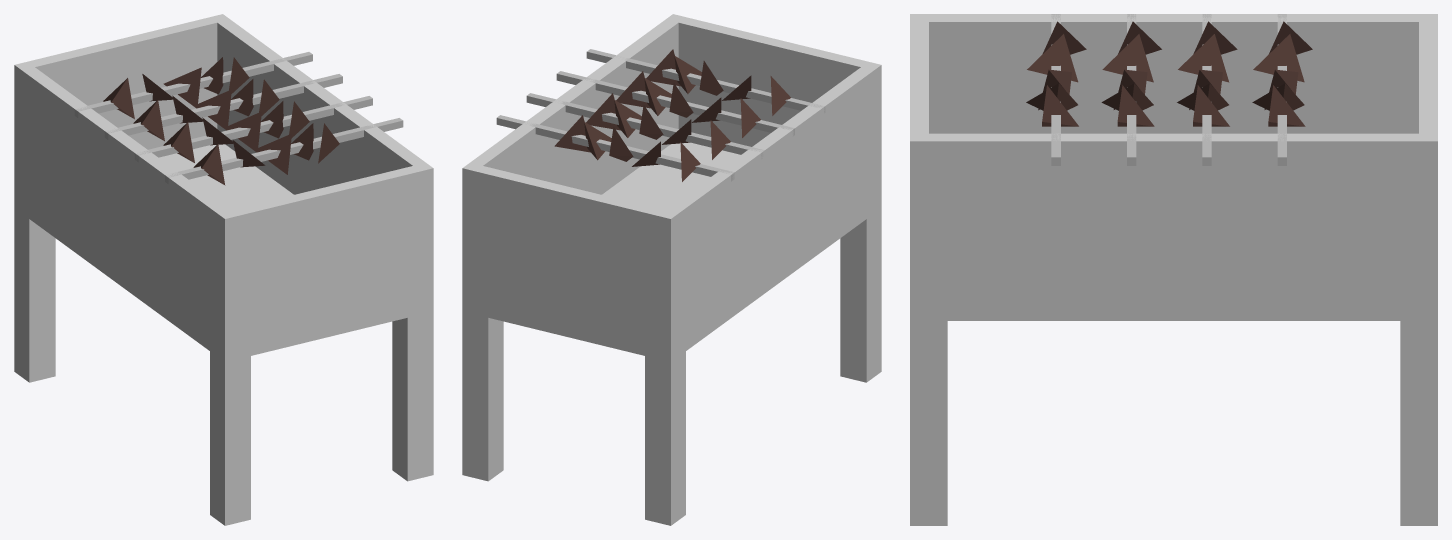
3 renders of one model, left to right at view 1: azimuth 30°, elevation 25°; view 2: azimuth 150°, elevation 25°; view 3: azimuth 270°, elevation 25°, orthographic. The views are drawn at different scales.
Parts seen in each view (by area): view 1: cube_6, cube_7, cube_5, cube_8, cube_4, cube_3, cube_1, cube, cube_11, cube_9, cube_12, cube_10 (+8 smaller); view 2: cube_6, cube_8, cube_5, cube_7, cube_2, cube_1, cube_3, cube, cube_10, cube_11, cube_9, cube_12 (+8 smaller); view 3: cube_5, cube_6, cube_2, cube_4, cube_7, cube_8, cuboid_3, cuboid_12, cuboid_17, cuboid_7, cuboid_1, cuboid_14 (+6 smaller).
Boxes of the visible parts, x1,y1,x2,y2 form: cube_6: (14, 61, 237, 362); cube_7: (231, 166, 420, 358); cube_5: (210, 14, 433, 314); cube_8: (28, 17, 217, 149); cube_4: (392, 311, 433, 481); cube_3: (210, 351, 250, 525); cube_1: (14, 208, 55, 382); cube: (159, 144, 293, 210); cube_11: (74, 52, 312, 117); cube_9: (104, 74, 342, 139); cube_12: (165, 118, 403, 184); cube_10: (134, 96, 372, 162); cube_6: (658, 61, 881, 362); cube_8: (475, 166, 664, 358); cube_5: (462, 14, 685, 314); cube_7: (678, 17, 867, 146); cube_2: (462, 311, 503, 481); cube_1: (645, 351, 685, 525); cube_3: (840, 208, 881, 382); cube: (602, 142, 740, 210); cube_10: (556, 71, 794, 136); cube_11: (496, 115, 734, 181); cube_9: (526, 93, 764, 158); cube_12: (586, 49, 825, 113); cube_5: (910, 133, 1437, 320); cube_6: (910, 14, 1437, 133); cube_2: (1400, 321, 1437, 525); cube_4: (910, 321, 947, 525); cube_7: (910, 22, 928, 133); cube_8: (1419, 22, 1437, 133); cuboid_3: (1178, 34, 1229, 82); cuboid_12: (1253, 34, 1304, 82); cuboid_17: (1027, 34, 1078, 82); cuboid_7: (1102, 34, 1153, 82); cuboid_1: (1193, 85, 1229, 126); cuboid_14: (1268, 85, 1305, 126).
Size of the model in its own units: 56.25 by 74.81 by 87.5.
Materials: 2 (2 with a texture image).
